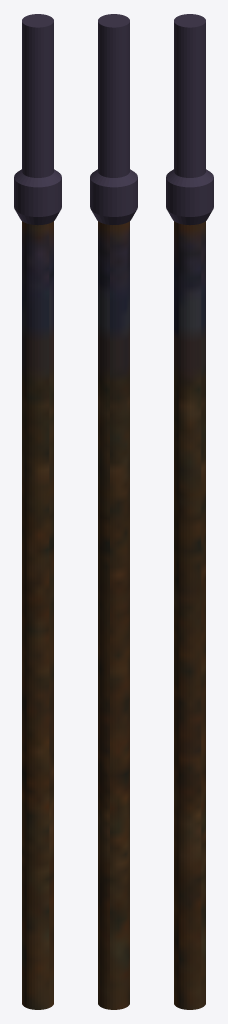
The model's file is M4BO_Chapter1_ElivatorShaftr_2.fbx.
The picture shows the model from 3 angles, left to right: view 1: azimuth 90°, elevation 25°; view 2: azimuth 210°, elevation 25°; view 3: azimuth 270°, elevation 25°; orthographic projection.
Visible parts, largest first — view 1: Cylinder.003; view 2: Cylinder.003; view 3: Cylinder.003.
Part boxes in pixels (x1=…): Cylinder.003: x1=14, y1=14, x2=61, y2=1009; Cylinder.003: x1=90, y1=14, x2=137, y2=1009; Cylinder.003: x1=166, y1=14, x2=213, y2=1009.
Bounding box in the file's own units: 129 × 2909 × 129.
